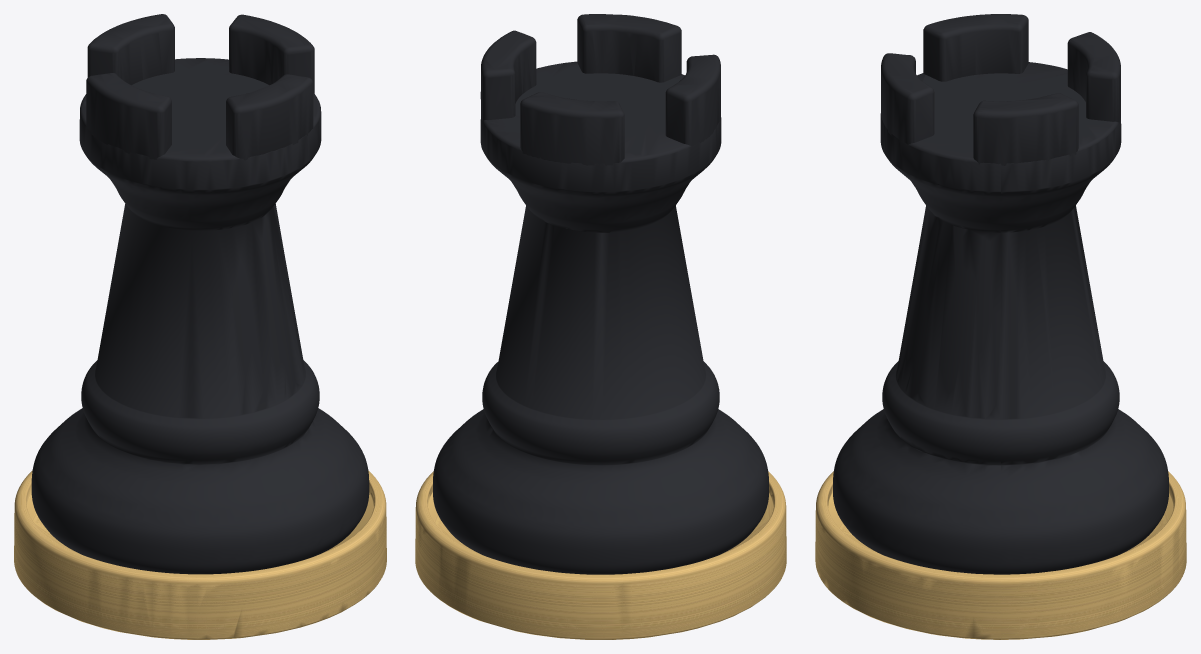
The model's file is rook-black-hd.glb.
The picture shows the model from 3 angles, left to right: view 1: azimuth 30°, elevation 25°; view 2: azimuth 150°, elevation 25°; view 3: azimuth 270°, elevation 25°; orthographic projection.
Parts seen in each view (by area): view 1: Aurum Noir – Rook; view 2: Aurum Noir – Rook; view 3: Aurum Noir – Rook.
Boxes of the visible parts, x1,y1,x2,y2 form: Aurum Noir – Rook: (14, 14, 386, 639); Aurum Noir – Rook: (415, 14, 786, 639); Aurum Noir – Rook: (815, 14, 1186, 639).
Size of the model in its own units: 0.7142 by 1.06 by 0.7142.
Materials: 2 (1 with a texture image).
